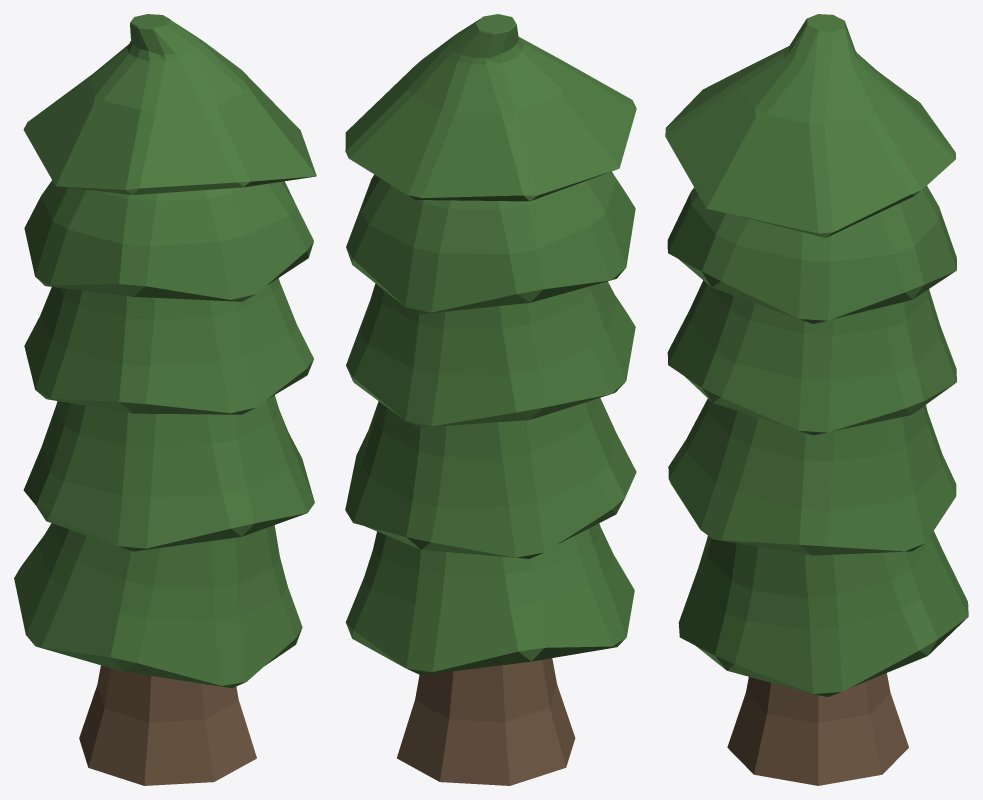
File: tree2.fbx
3 renders of one model, left to right at view 1: azimuth 30°, elevation 25°; view 2: azimuth 150°, elevation 25°; view 3: azimuth 270°, elevation 25°, orthographic.
Visible parts, largest first — view 1: Tree; view 2: Tree; view 3: Tree.
Part boxes in pixels (x1=…): Tree: x1=14, y1=14, x2=316, y2=785; Tree: x1=345, y1=14, x2=636, y2=785; Tree: x1=665, y1=14, x2=968, y2=785.
Size of the model in its own units: 334 by 873 by 334.
